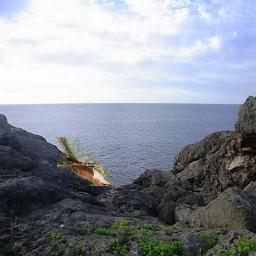Cuckoo: (58, 138, 117, 187)
